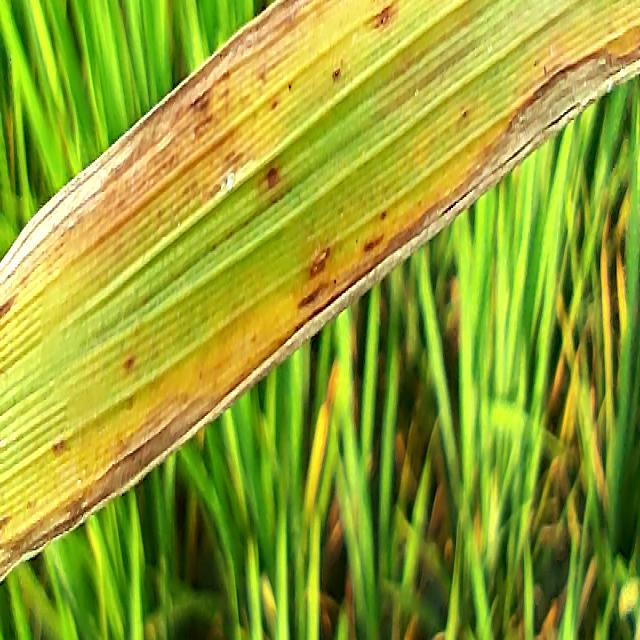NBS: (297, 282, 328, 309), (310, 246, 330, 278), (363, 233, 384, 252), (51, 439, 66, 455), (123, 353, 136, 369), (270, 99, 277, 112), (379, 210, 386, 222)
